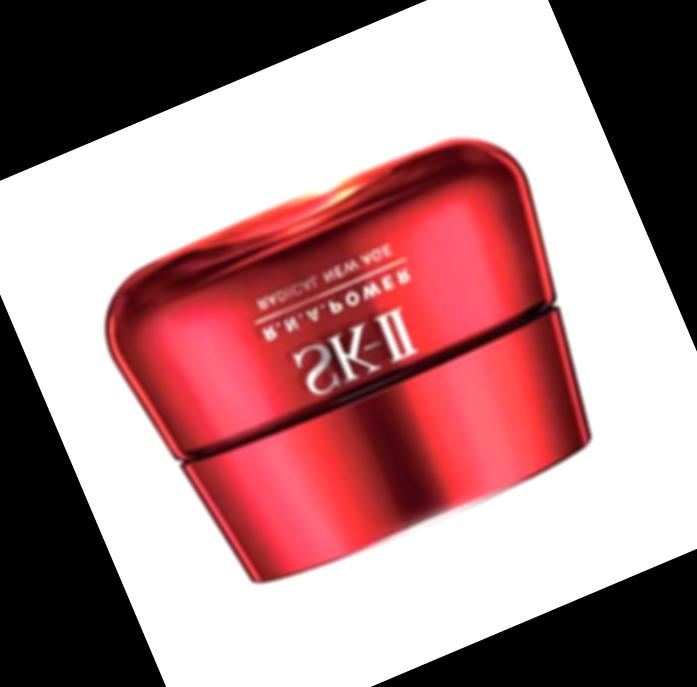cosmetic: (99, 127, 623, 604)
